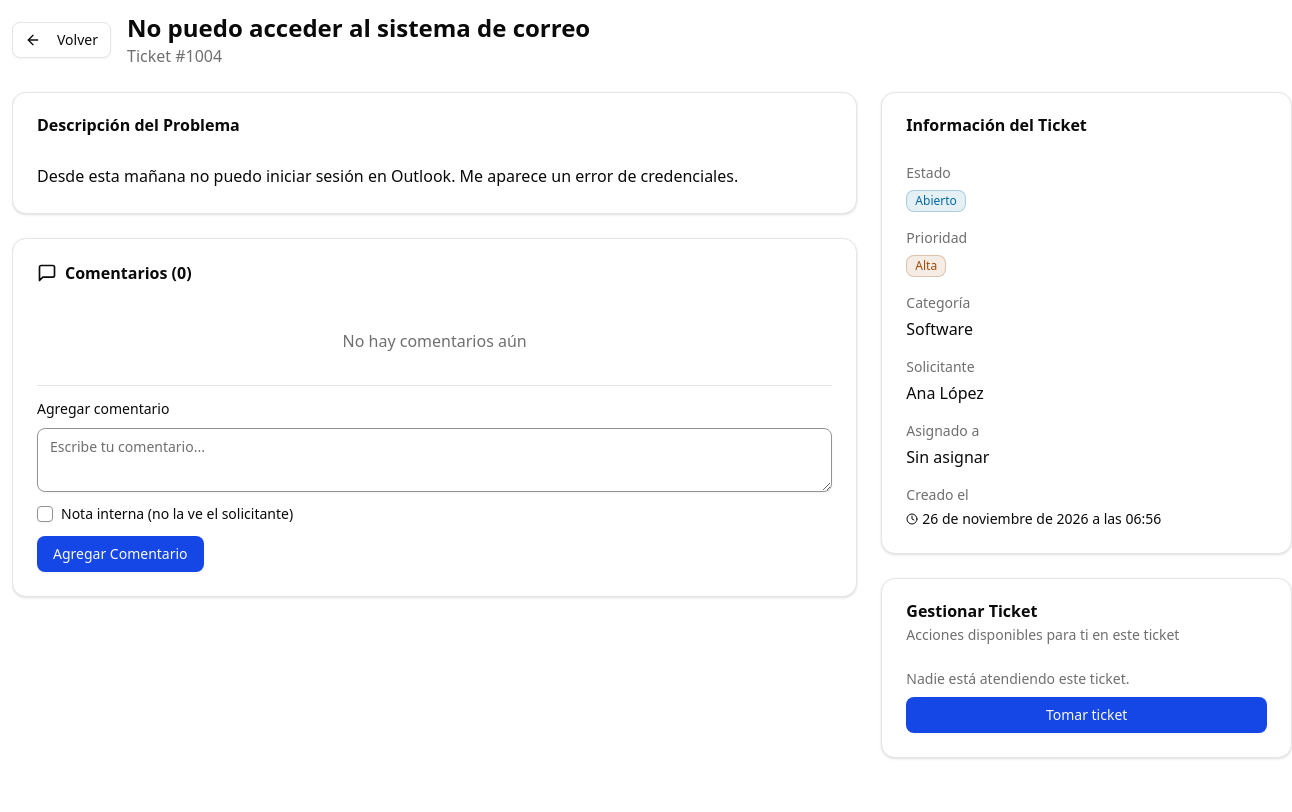
Test: TicketDetail › asks for the solution before resolving
The image size is (1292, 812).
Click the button "Tomar ticket": (1087, 715) top-left (906, 697), bottom-right (1267, 733)
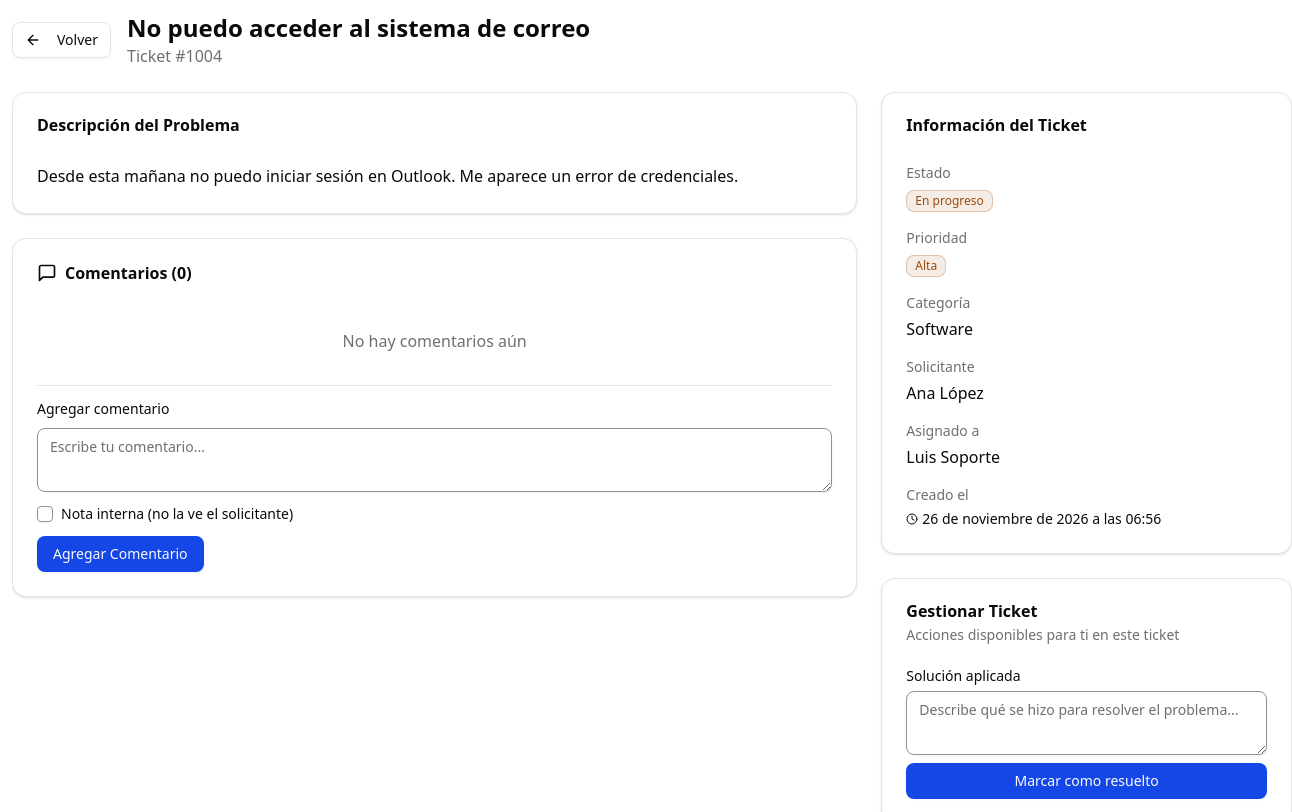
Click the button "Marcar como resuelto": (1087, 781) top-left (906, 763), bottom-right (1267, 799)
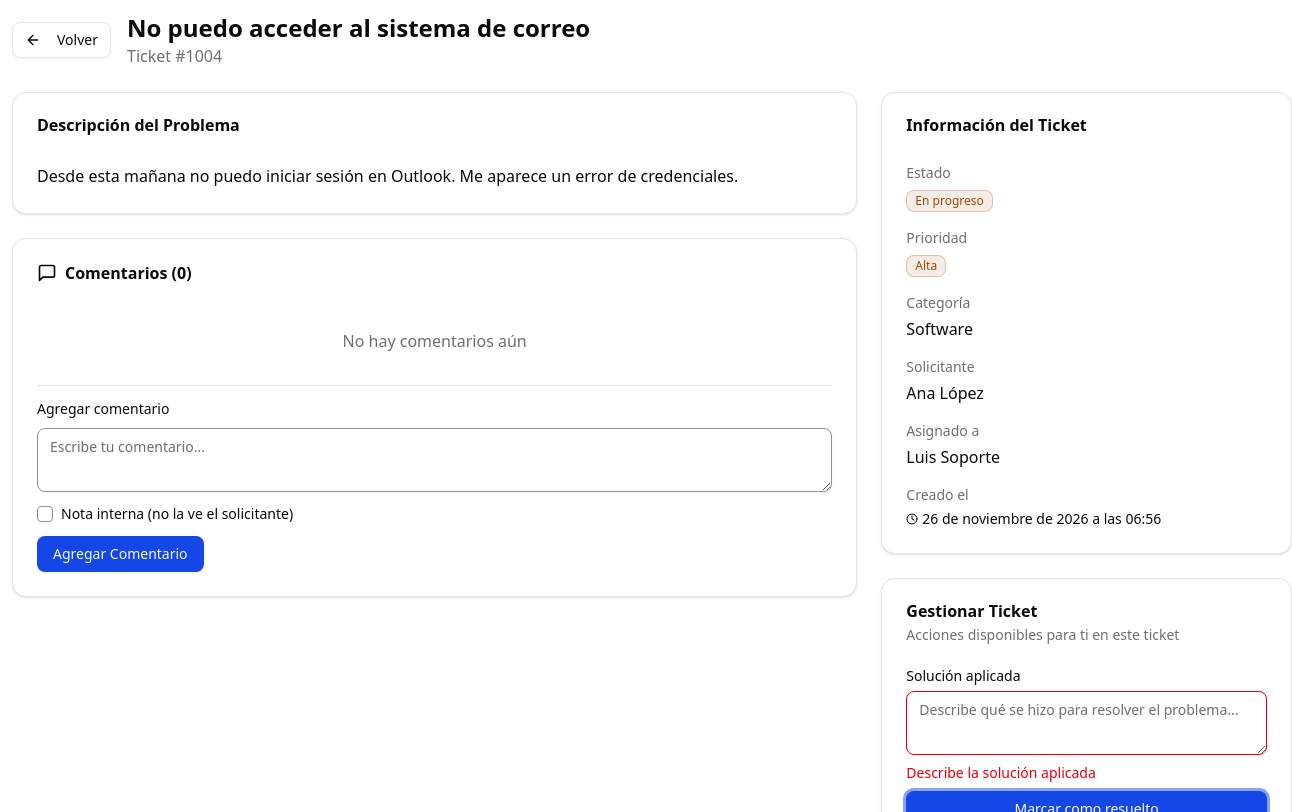
Result: the text "Describe la solución aplicada" is shown at top-left (906, 763), bottom-right (1096, 782)
In the text box labelled "Solución aplicada": (1087, 723) top-left (906, 691), bottom-right (1267, 755), type "Se restableció la contraseña"
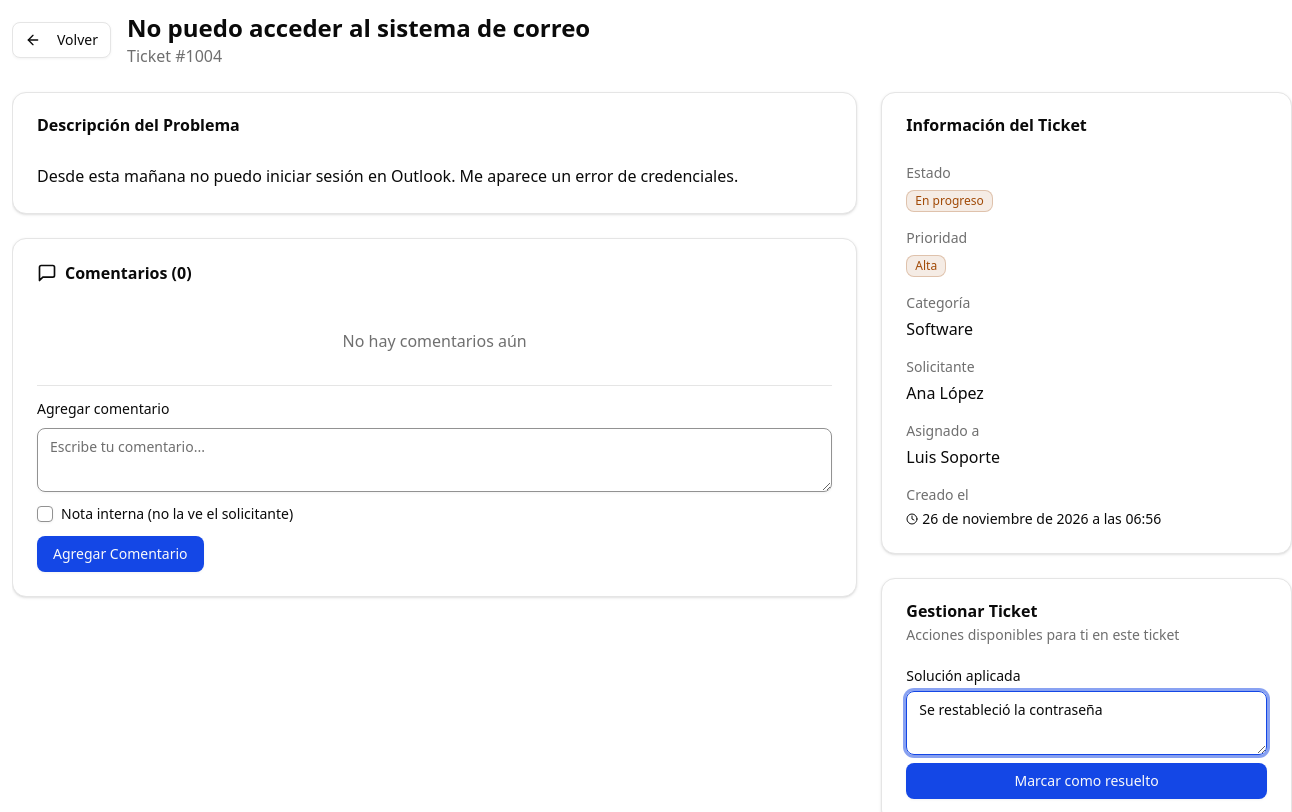
Click the button "Marcar como resuelto": (1087, 781) top-left (906, 763), bottom-right (1267, 799)
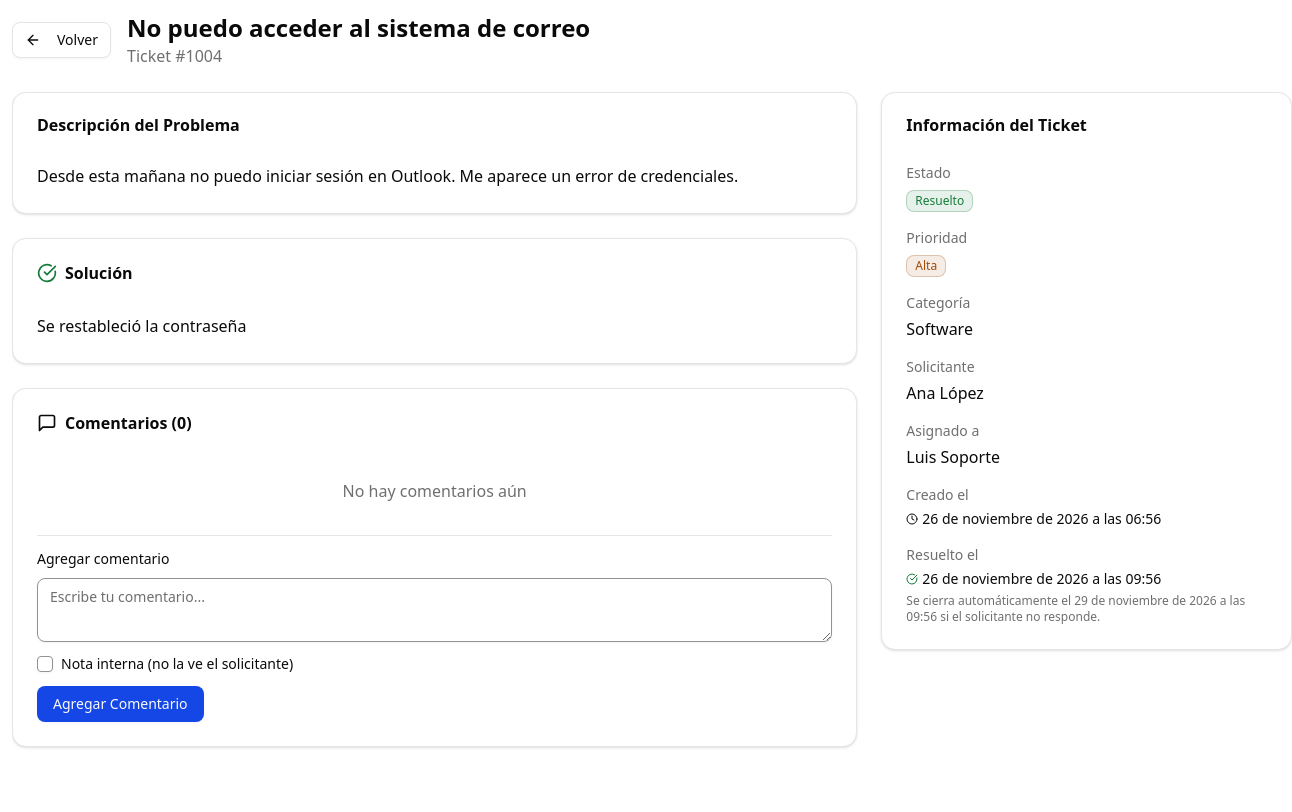
Result: the text "Resuelto" is shown at top-left (906, 190), bottom-right (973, 212)
Result: the text "Se restableció la contraseña" is shown at top-left (37, 315), bottom-right (246, 337)
